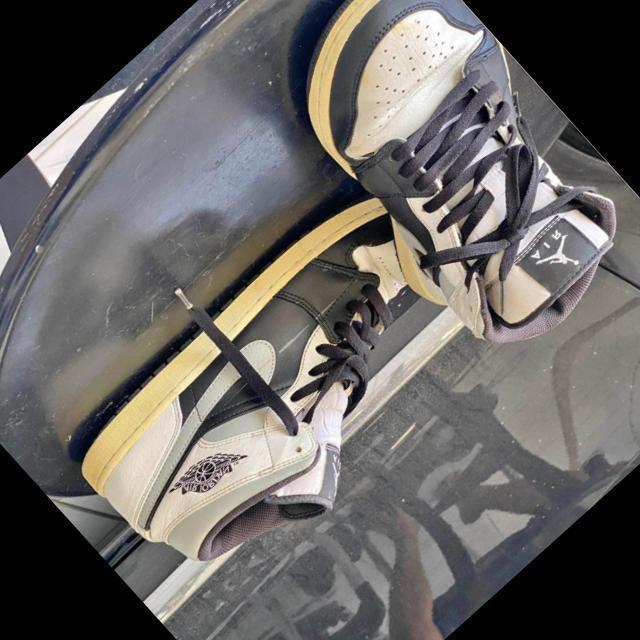nike fake jordan 1: (50, 137, 556, 625), (231, 0, 640, 385)
